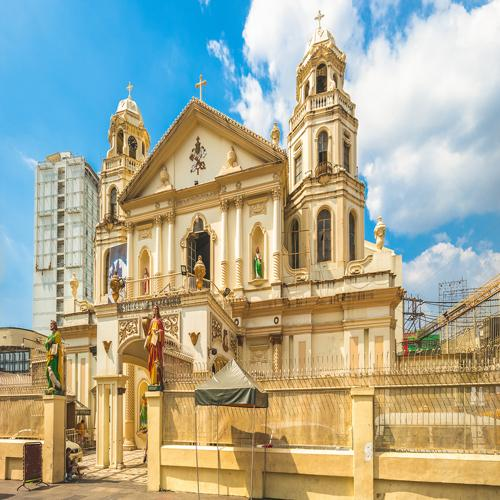Quiapo Church: (55, 10, 384, 490)
